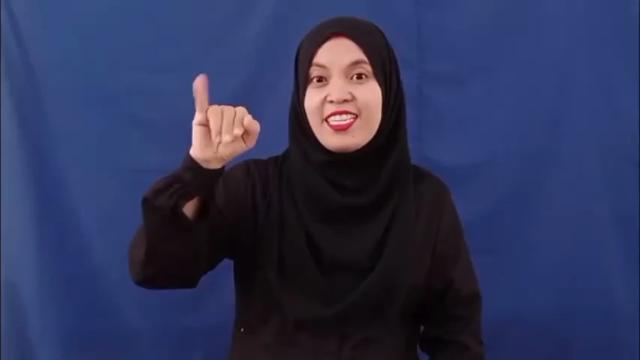I: (190, 76, 262, 162)
